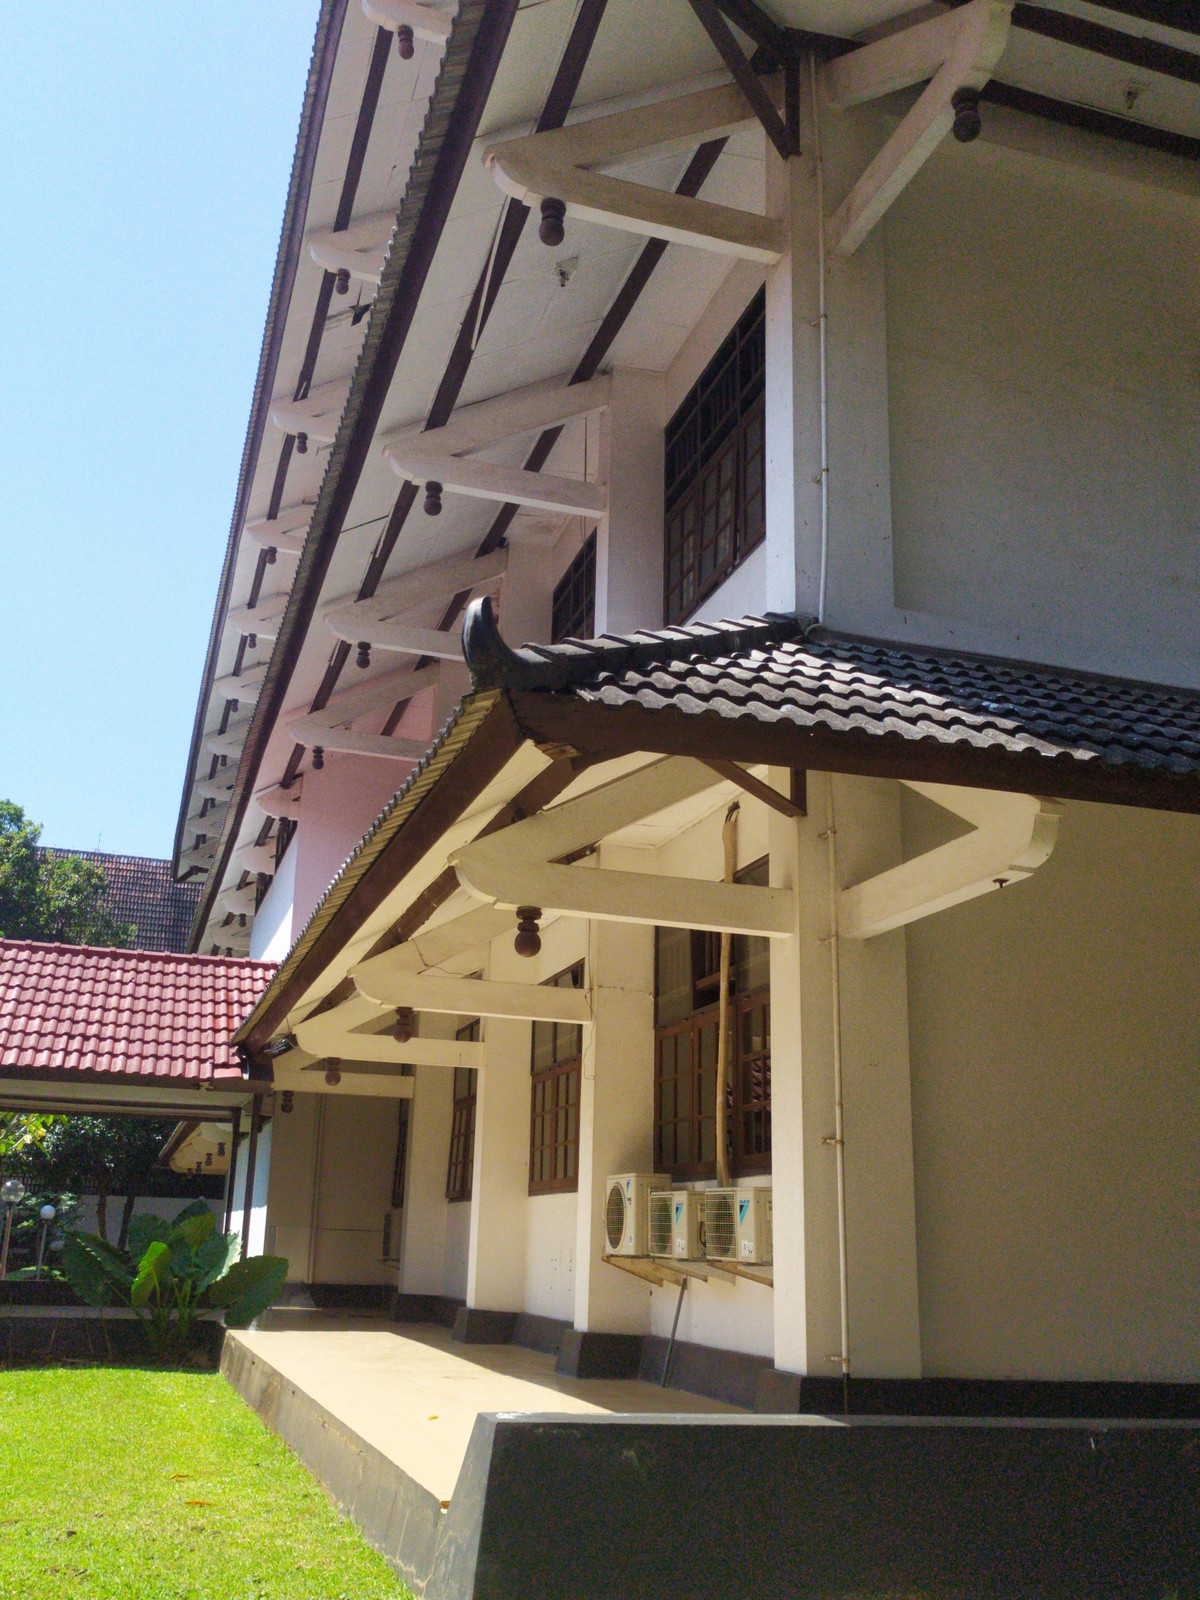concrete beam: (570, 175, 789, 272), (449, 464, 616, 532)
concrete column: (760, 831, 937, 1415), (753, 249, 908, 627), (568, 944, 661, 1357), (458, 1031, 536, 1340), (584, 522, 679, 636)
